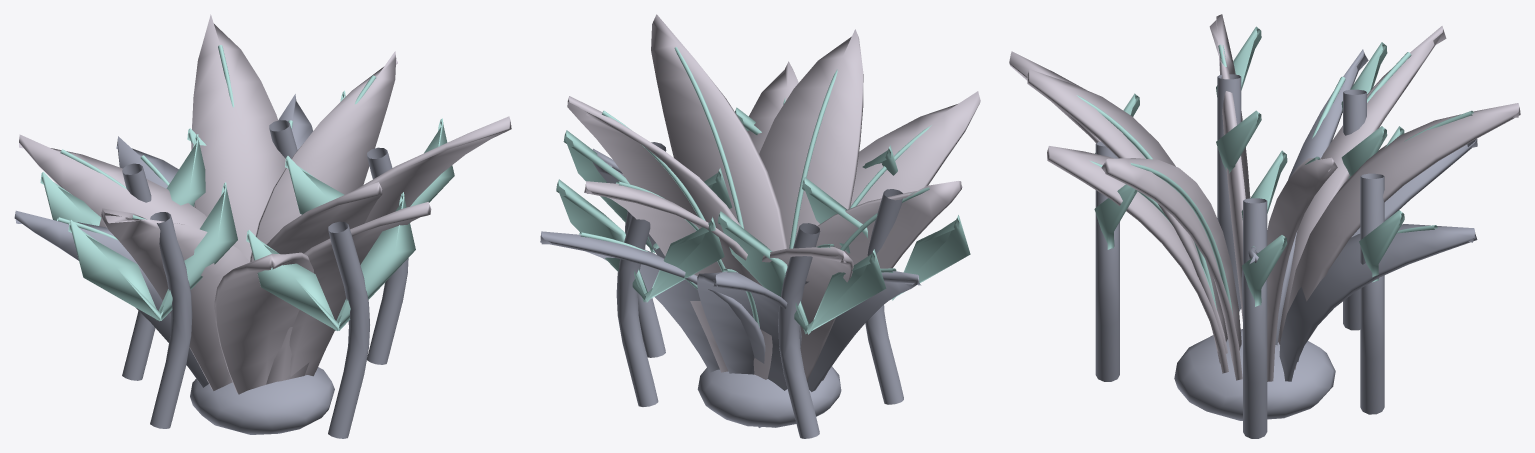
Rendered from bio_mist_leaf_22_far.glb.
3 renders of one model, left to right at view 1: azimuth 30°, elevation 25°; view 2: azimuth 150°, elevation 25°; view 3: azimuth 270°, elevation 25°, orthographic. The views are drawn at different scales.
Parts seen in each view (by area): view 1: Cupped condensate leaf.011, Cupped condensate leaf.008, Cupped condensate leaf.007, Cupped condensate leaf.004, Root rosette, Secondary fan lobe.008, Secondary fan lobe.004, Cupped condensate leaf.001, Cupped condensate leaf.010, Branching support.002, Branching support.004, Cupped condensate leaf.002 (+9 smaller); view 2: Cupped condensate leaf.002, Cupped condensate leaf.005, Cupped condensate leaf.007, Cupped condensate leaf.008, Cupped condensate leaf.006, Cupped condensate leaf.003, Cupped condensate leaf.011, Root rosette, Cupped condensate leaf.004, Secondary fan lobe.002, Secondary fan lobe.006, Branching support.001 (+14 smaller); view 3: Cupped condensate leaf.011, Root rosette, Cupped condensate leaf.003, Cupped condensate leaf.005, Cupped condensate leaf.002, Cupped condensate leaf.001, Branching support, Cupped condensate leaf.010, Branching support.003, Cupped condensate leaf.008, Branching support.002, Cupped condensate leaf.004 (+12 smaller).
Boxes of the visible parts, <box> form: Cupped condensate leaf.011: <box>191,14,285,261</box>; Cupped condensate leaf.008: <box>250,51,397,261</box>; Cupped condensate leaf.007: <box>214,252,313,394</box>; Cupped condensate leaf.004: <box>101,208,249,390</box>; Root rosette: <box>190,367,334,434</box>; Secondary fan lobe.008: <box>68,182,237,321</box>; Secondary fan lobe.004: <box>246,192,415,330</box>; Cupped condensate leaf.001: <box>19,134,206,229</box>; Cupped condensate leaf.010: <box>289,202,431,376</box>; Branching support.002: <box>328,221,369,438</box>; Branching support.004: <box>150,212,192,428</box>; Cupped condensate leaf.002: <box>266,182,382,384</box>; Cupped condensate leaf.002: <box>759,29,863,248</box>; Cupped condensate leaf.005: <box>651,14,787,251</box>; Cupped condensate leaf.007: <box>850,91,980,206</box>; Cupped condensate leaf.008: <box>567,96,741,232</box>; Cupped condensate leaf.006: <box>697,271,801,427</box>; Cupped condensate leaf.003: <box>540,231,765,372</box>; Cupped condensate leaf.011: <box>584,181,772,379</box>; Root rosette: <box>697,366,841,427</box>; Cupped condensate leaf.004: <box>816,181,962,380</box>; Secondary fan lobe.002: <box>717,211,886,334</box>; Secondary fan lobe.006: <box>556,179,724,302</box>; Branching support.001: <box>778,223,820,438</box>; Cupped condensate leaf.011: <box>1287,103,1520,369</box>; Root rosette: <box>1174,329,1335,420</box>; Cupped condensate leaf.003: <box>1279,224,1477,381</box>; Cupped condensate leaf.005: <box>1101,158,1242,380</box>; Cupped condensate leaf.002: <box>1027,69,1223,363</box>; Cupped condensate leaf.001: <box>1278,26,1446,345</box>; Branching support: <box>1243,198,1267,438</box>; Cupped condensate leaf.010: <box>1047,146,1228,373</box>; Branching support.003: <box>1360,173,1384,414</box>; Cupped condensate leaf.008: <box>1267,157,1337,419</box>; Branching support.002: <box>1095,141,1119,381</box>; Cupped condensate leaf.004: <box>1209,14,1250,321</box>.
Bounding box in the file's own units: 1.88 × 1.42 × 1.9.
